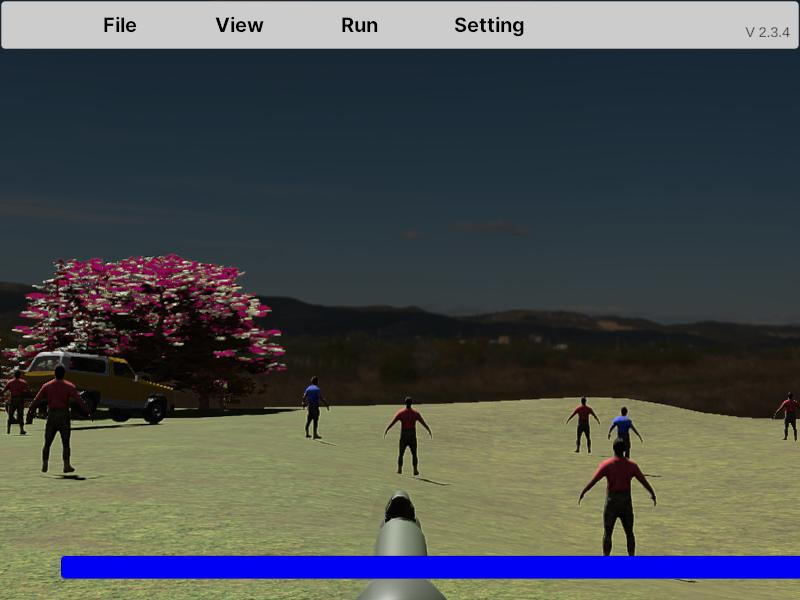Human: (579, 435, 657, 581), (29, 365, 91, 473), (384, 396, 432, 479), (609, 405, 643, 475), (567, 395, 601, 455), (302, 375, 329, 439), (774, 390, 800, 443)
car: (21, 349, 175, 424)
